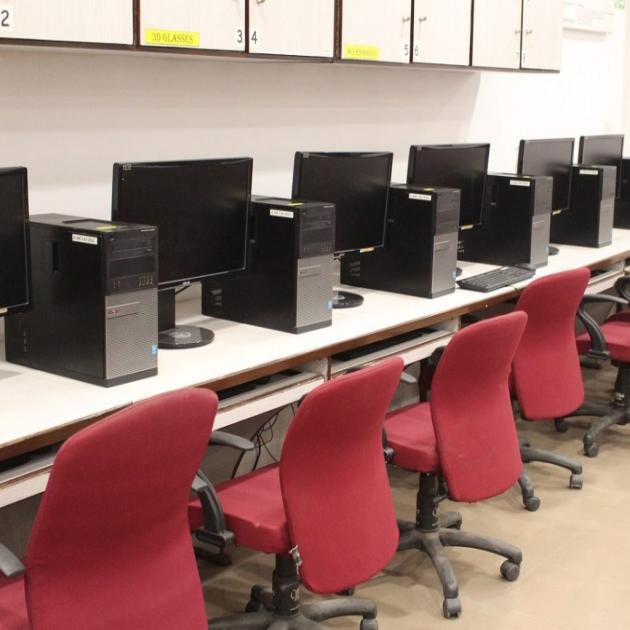desk: (8, 262, 616, 448)
